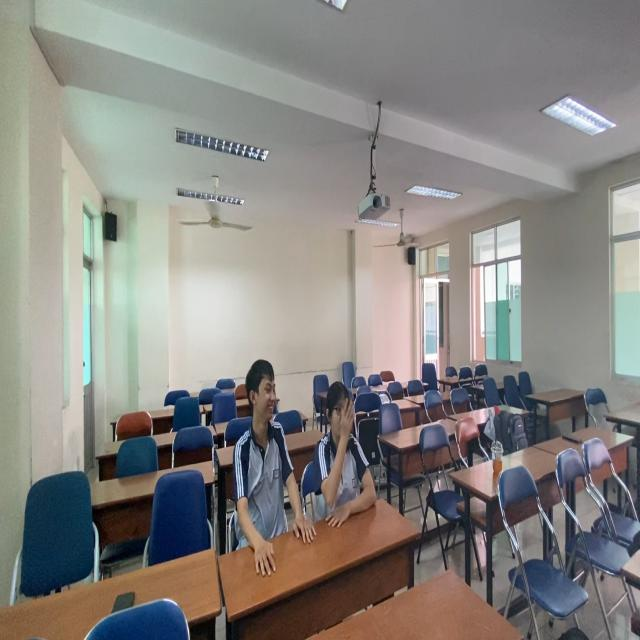raise_hand: (316, 377, 379, 539)
